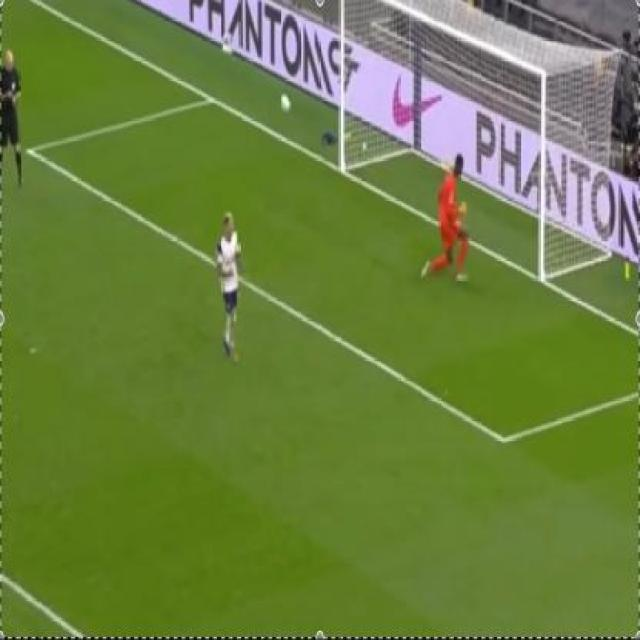ball: (271, 88, 302, 120)
cage: (342, 2, 547, 283)
gardien: (417, 150, 471, 282)
joueur: (212, 211, 243, 358)
